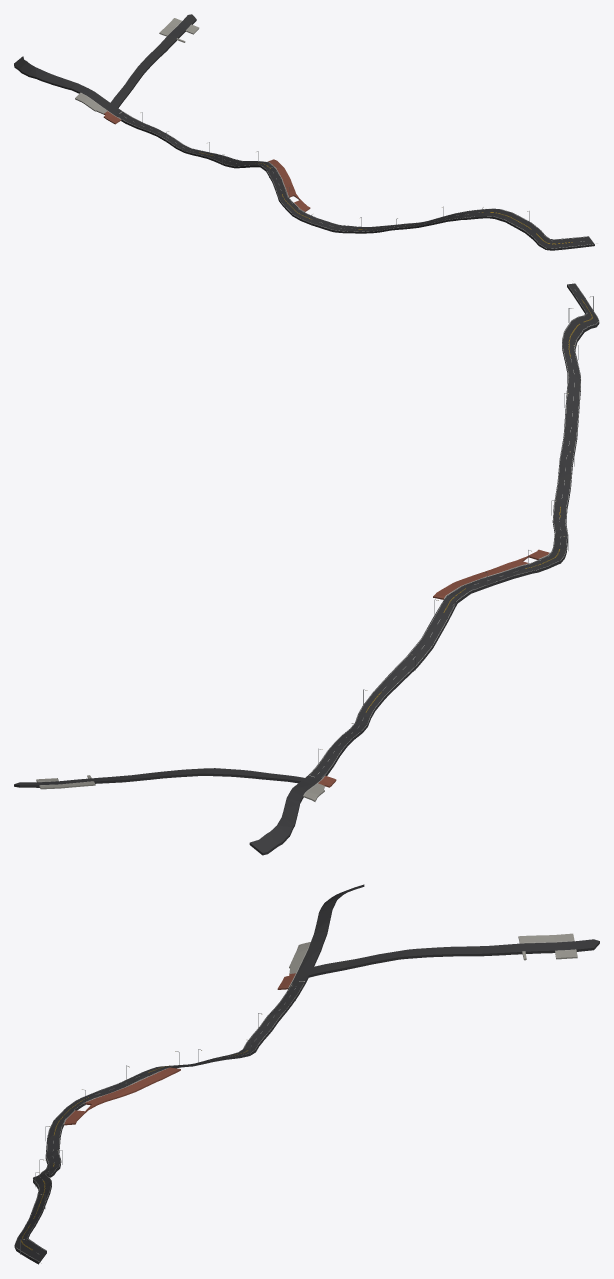
3 renders of one model, top to bottom at view 1: azimuth 30°, elevation 25°; view 2: azimuth 150°, elevation 25°; view 3: azimuth 330°, elevation 25°, orthographic. The views are drawn at different scales.
Size of the model in its own units: 136 by 67.97 by 514.
